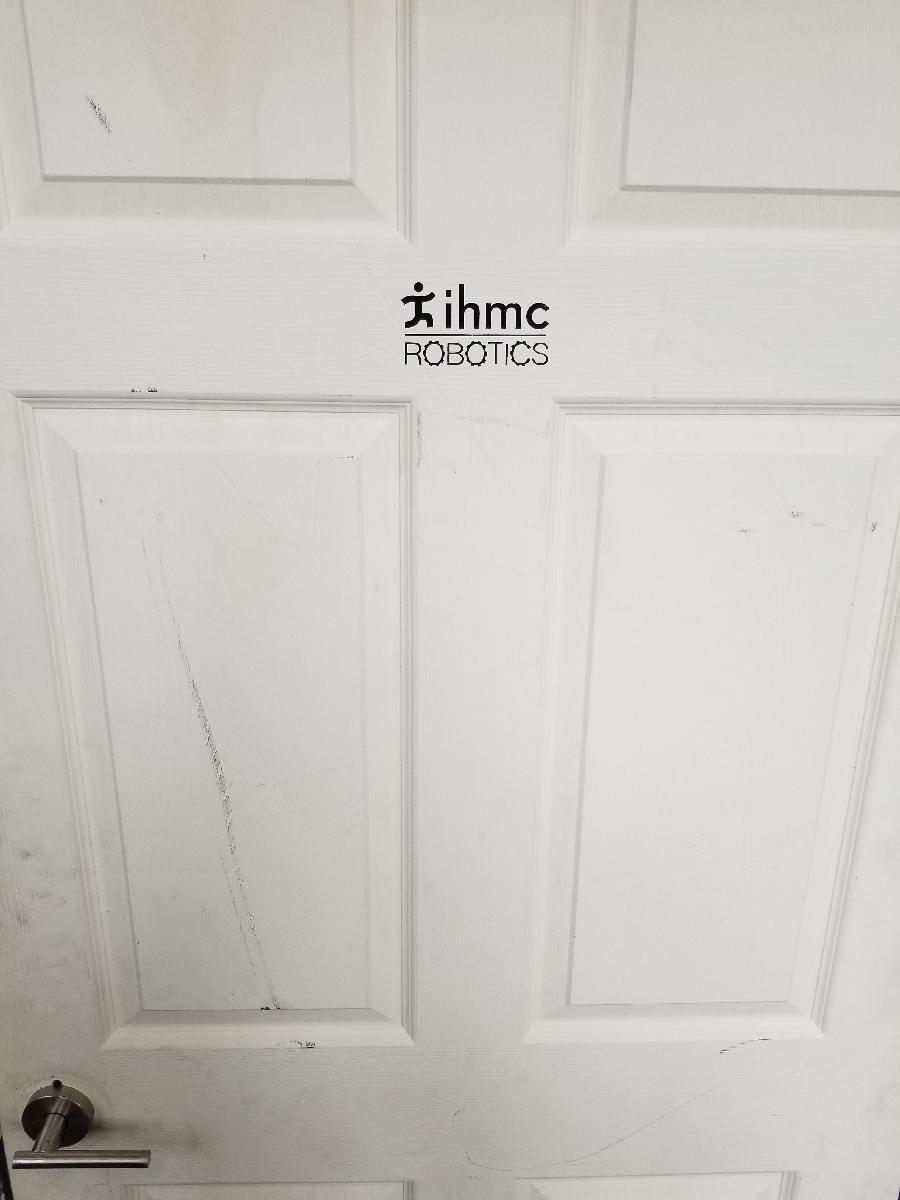door: (8, 8, 883, 1191)
handle: (16, 1070, 160, 1182)
